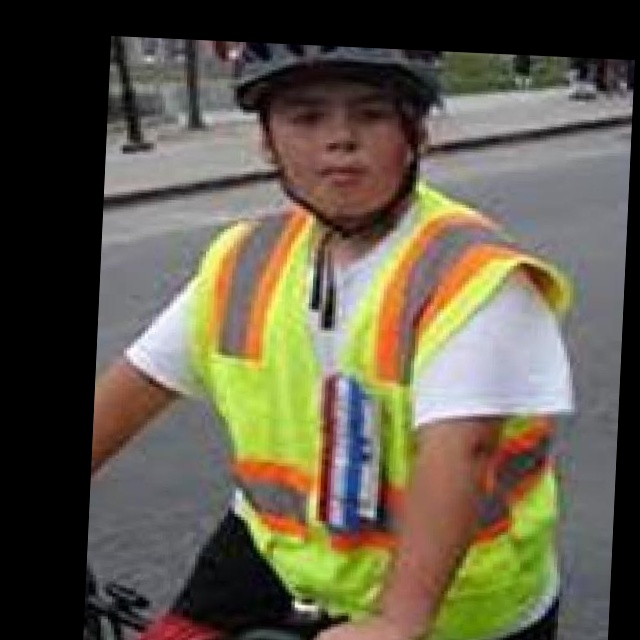Con_Chaleco: (182, 188, 585, 637)
